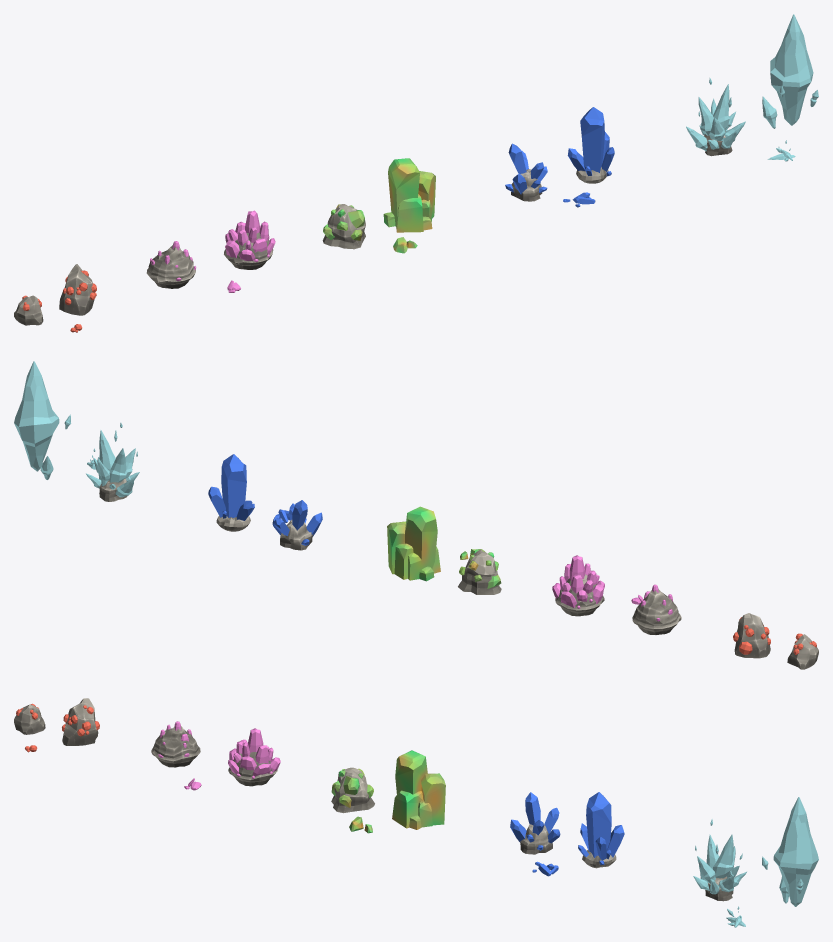
Rendered from mine-ore-crystals.glb.
3 renders of one model, top to bottom at view 1: azimuth 30°, elevation 25°; view 2: azimuth 150°, elevation 25°; view 3: azimuth 330°, elevation 25°, orthographic.
Parts seen in each view (by area): view 1: Ore_and_crystals_obj_cleaner_materialmerger_gles; view 2: Ore_and_crystals_obj_cleaner_materialmerger_gles; view 3: Ore_and_crystals_obj_cleaner_materialmerger_gles.
Boxes of the visible parts, bbox=[...] form: Ore_and_crystals_obj_cleaner_materialmerger_gles: bbox=[14, 14, 818, 332]; Ore_and_crystals_obj_cleaner_materialmerger_gles: bbox=[14, 361, 818, 669]; Ore_and_crystals_obj_cleaner_materialmerger_gles: bbox=[14, 698, 818, 927].
Bounding box in the file's own units: 12.91 × 1.82 × 1.32.
15 materials, 11 textured.
